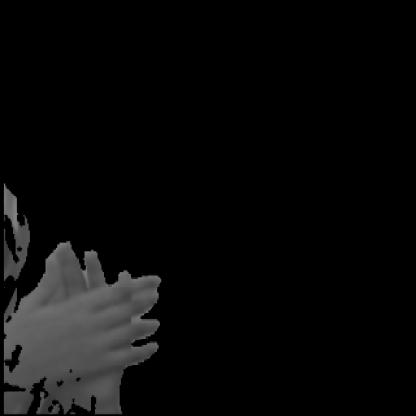clap: (14, 238, 173, 375)
